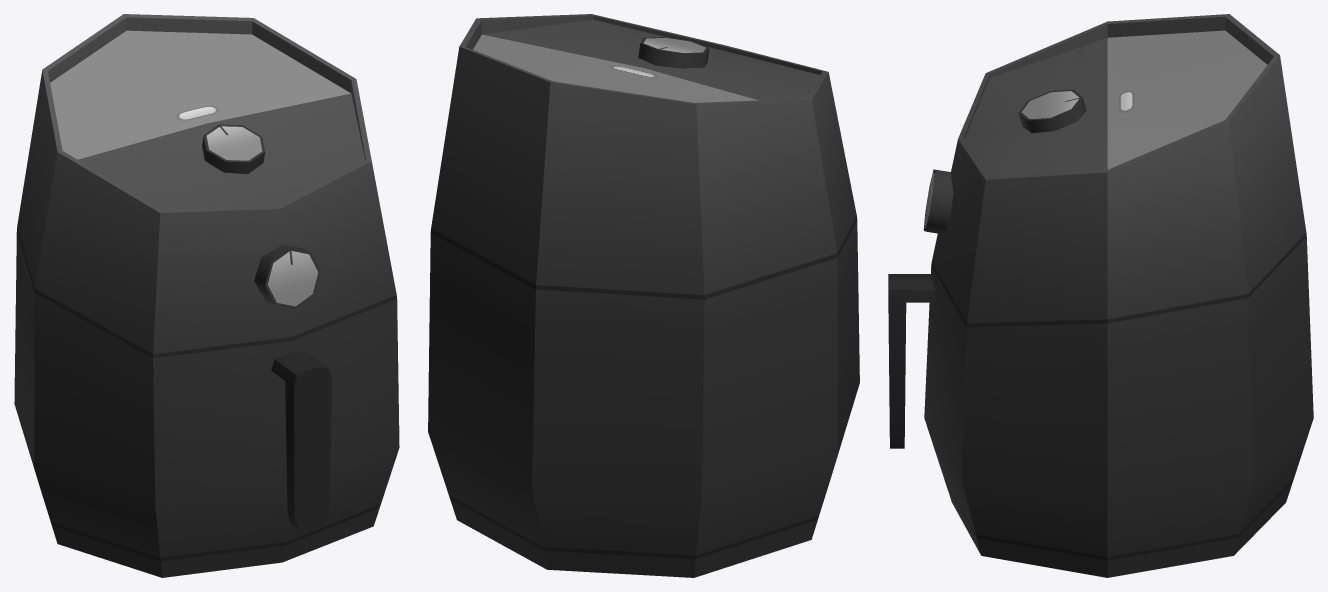
File: Air_fryer.fbx
The picture shows the model from 3 angles, left to right: view 1: azimuth 30°, elevation 25°; view 2: azimuth 150°, elevation 25°; view 3: azimuth 270°, elevation 25°; orthographic projection. The views are drawn at different scales.
Visible parts, largest first — view 1: Air_fryer; view 2: Air_fryer; view 3: Air_fryer.
Boxes of the visible parts, x1,y1,x2,y2 form: Air_fryer: (14, 14, 399, 577); Air_fryer: (428, 14, 859, 577); Air_fryer: (888, 14, 1313, 577).
Bounding box in the file's own units: 0.574 × 0.6871 × 0.5923.
Materials: 1 (1 with a texture image).
